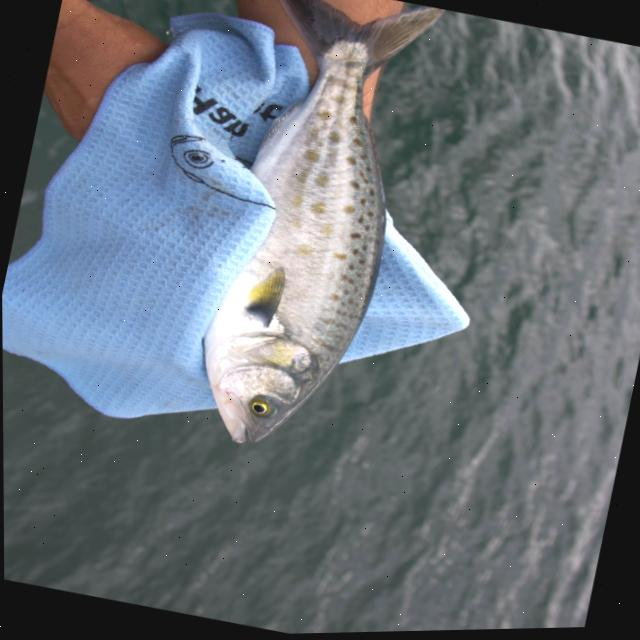Australian Salmon: (155, 0, 469, 475)
